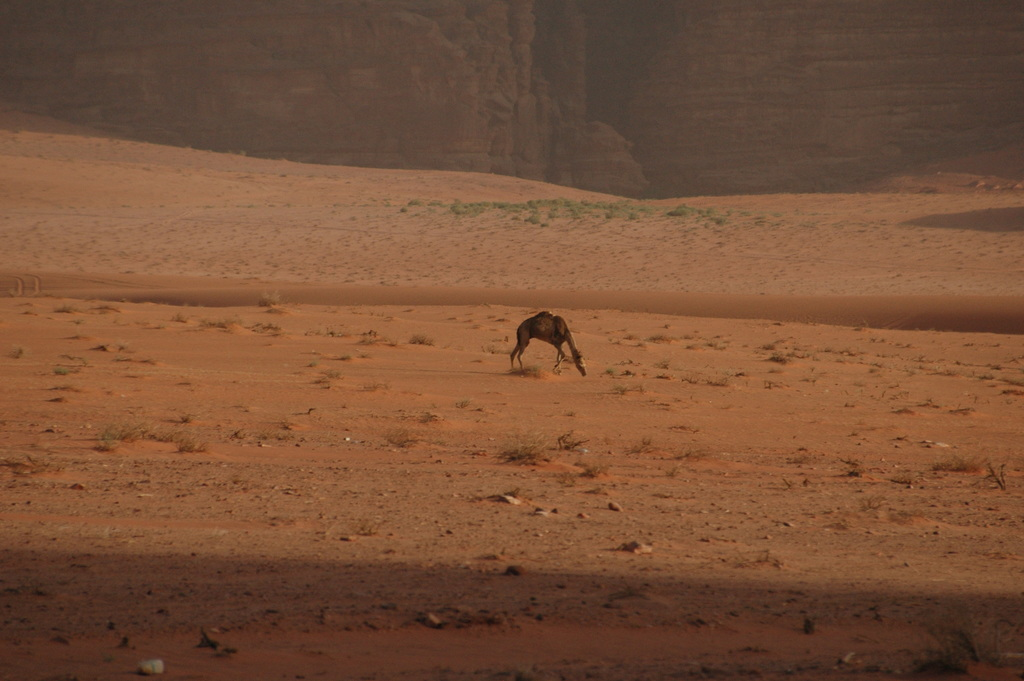Animal: (508, 310, 585, 374)
